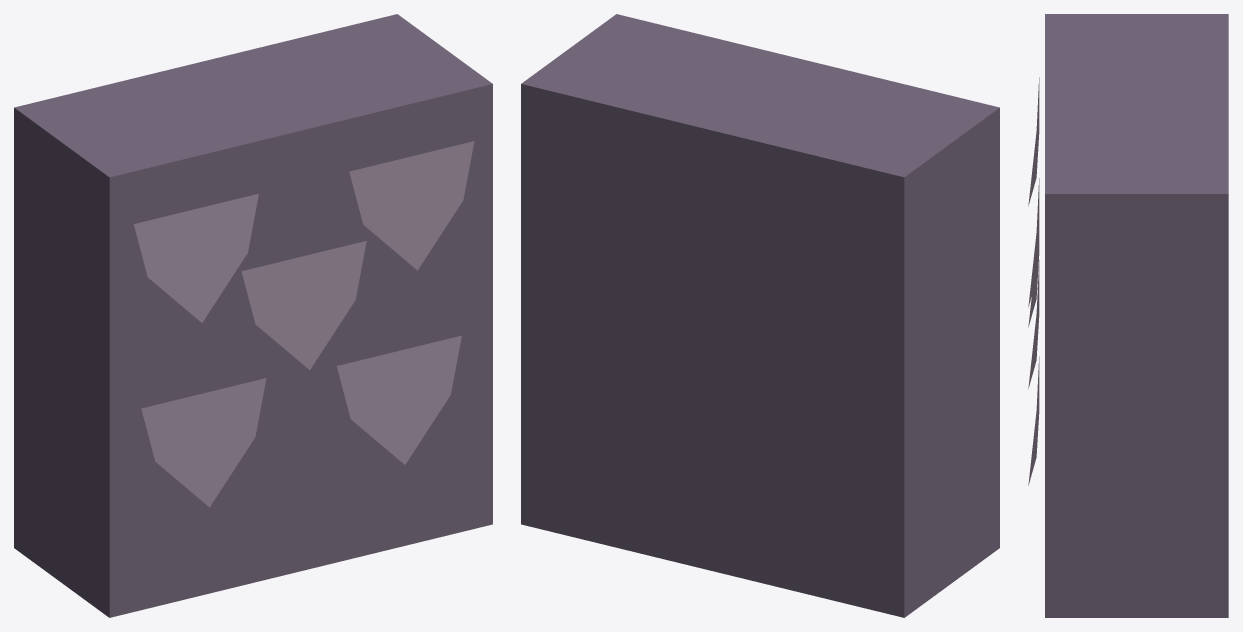
The model's file is map-exclusive-v3__dragon_07.glb.
3 views of the same model, side by side, from view 1: azimuth 30°, elevation 25°; view 2: azimuth 150°, elevation 25°; view 3: azimuth 270°, elevation 25° (orthographic). The views are drawn at different scales.
Parts seen in each view (by area): view 1: dragon_07; view 2: dragon_07; view 3: dragon_07.
Part boxes in pixels (x1,y1,x2,y2): dragon_07: [14, 14, 492, 617]; dragon_07: [521, 14, 999, 617]; dragon_07: [1028, 14, 1228, 617].
Size of the model in its own units: 1.53 by 1.68 by 0.72.
